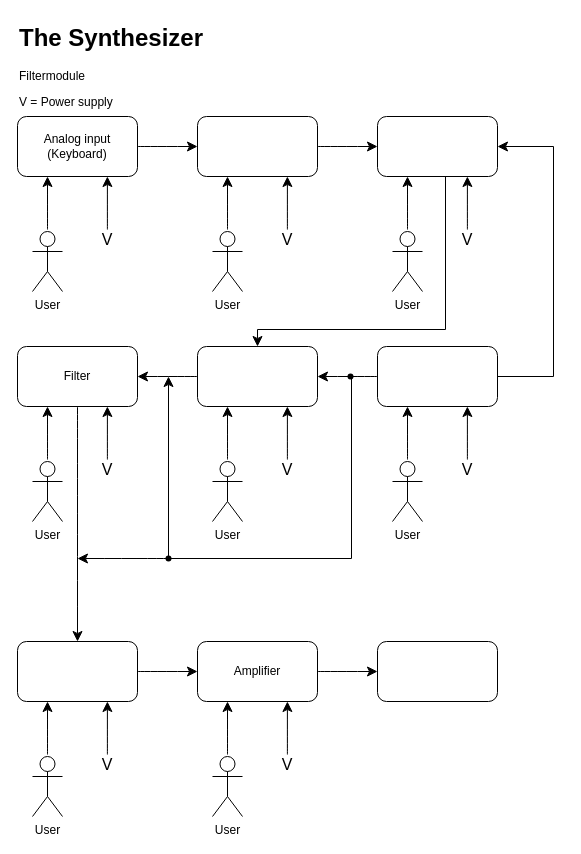
This 581x854 diagram has some shape labels left out. The shapes that lost their labels are listed below. From the top down, each one's box as (x1, y1, x2, y2) in pixels, then its label:
(196, 116, 318, 176): Sequencer
(376, 116, 498, 176): VCO
(196, 346, 318, 406): ADSR
(376, 346, 498, 406): LFO
(16, 640, 138, 702): Reverb
(376, 640, 498, 702): Speaker
